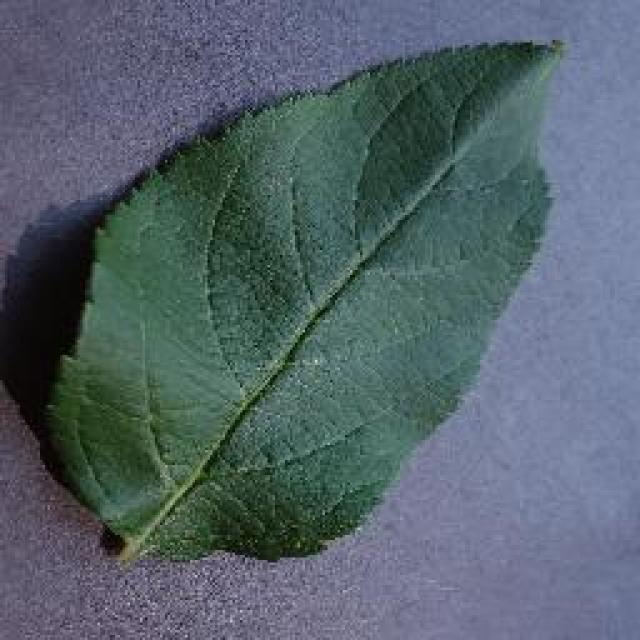apple healthy: (22, 32, 568, 568)
